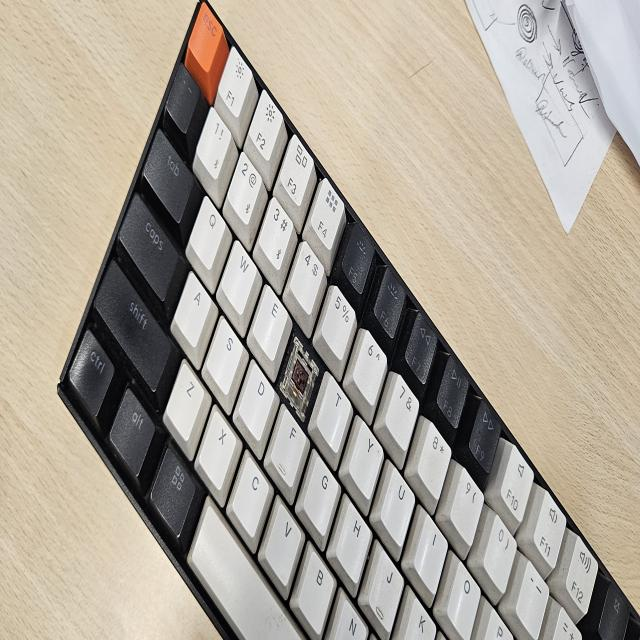C: (286, 339, 314, 412)
